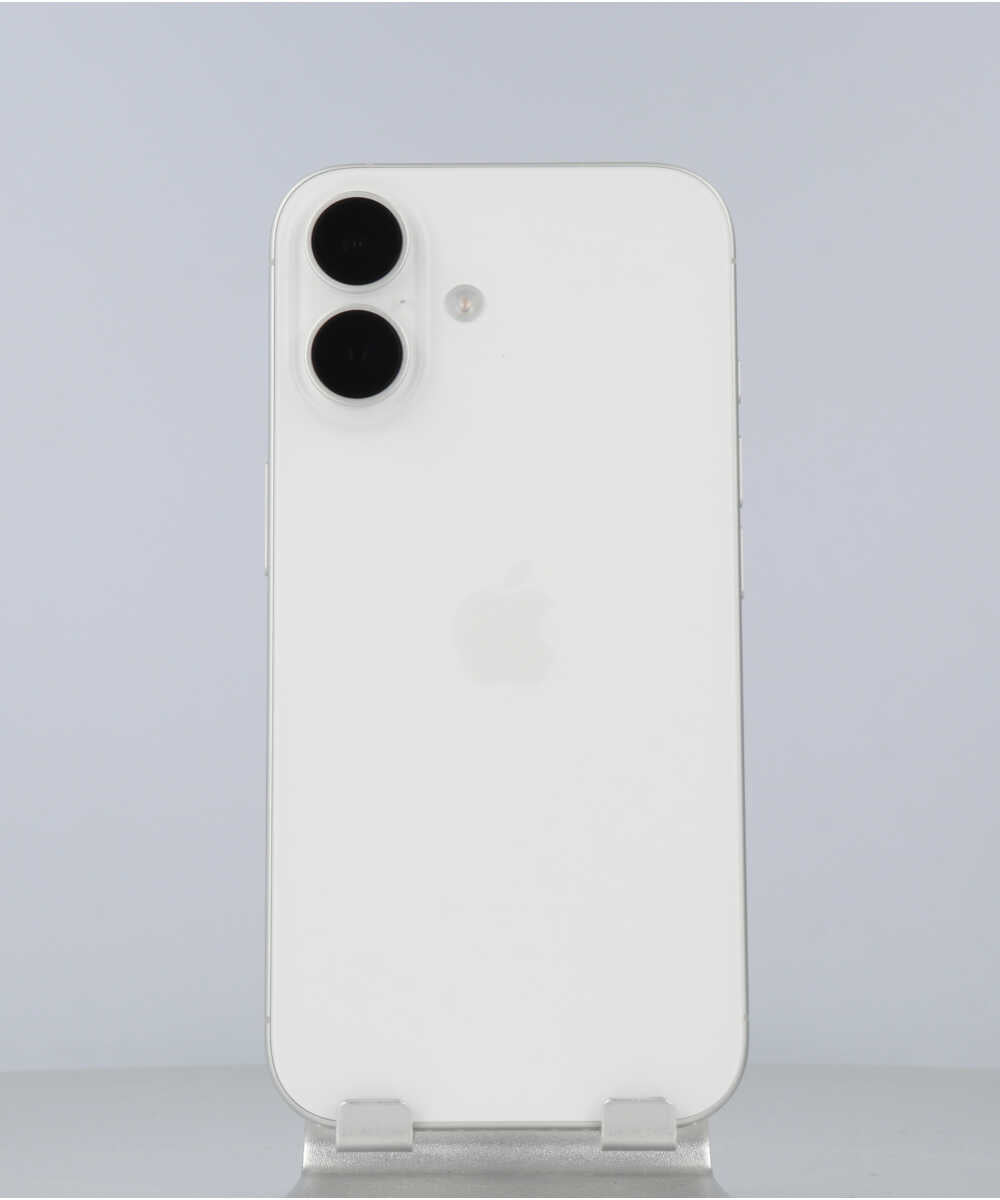iphone16_white: (234, 126, 775, 1153), (263, 162, 513, 418)
